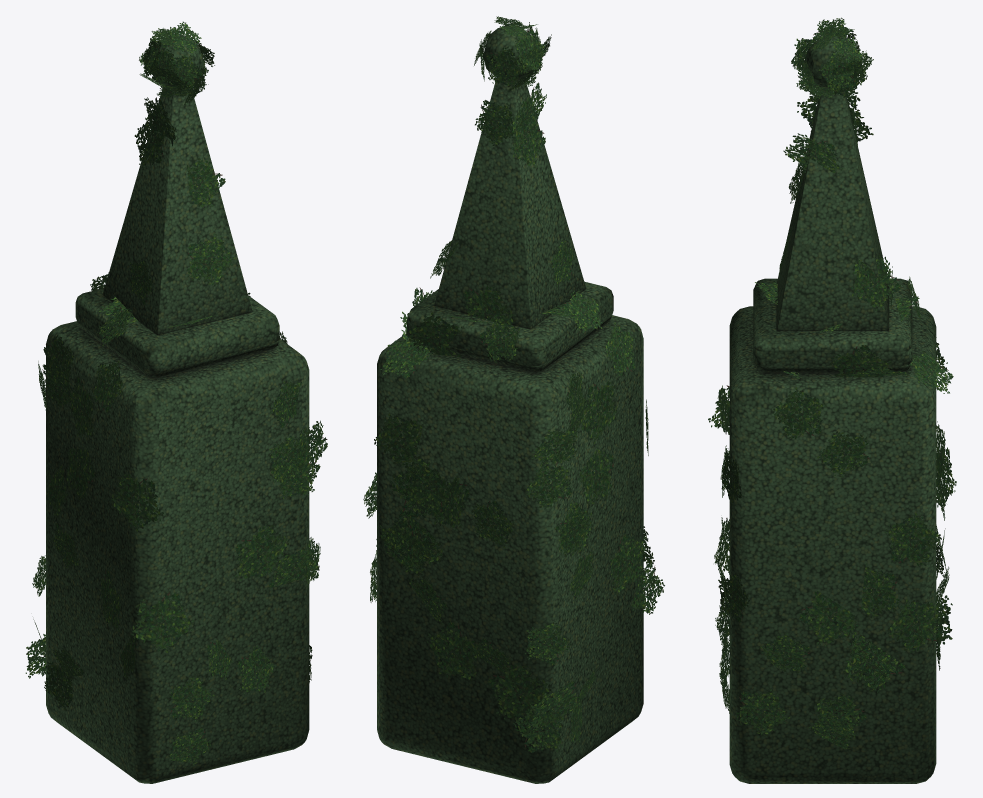
The model's file is HedgeEnd.fbx.
The picture shows the model from 3 angles, left to right: view 1: azimuth 30°, elevation 25°; view 2: azimuth 150°, elevation 25°; view 3: azimuth 270°, elevation 25°; orthographic projection.
Visible parts, largest first — view 1: HedgeEnd_Main, HedgeEnd_Leaves; view 2: HedgeEnd_Main, HedgeEnd_Leaves; view 3: HedgeEnd_Main, HedgeEnd_Leaves.
Part boxes in pixels (bbox=[...]): HedgeEnd_Main: bbox=[46, 35, 309, 783]; HedgeEnd_Leaves: bbox=[25, 21, 327, 767]; HedgeEnd_Main: bbox=[377, 25, 643, 783]; HedgeEnd_Leaves: bbox=[363, 16, 664, 752]; HedgeEnd_Main: bbox=[729, 36, 936, 783]; HedgeEnd_Leaves: bbox=[708, 17, 956, 749].
Bounding box in the file's own units: 331 × 1007 × 338.
